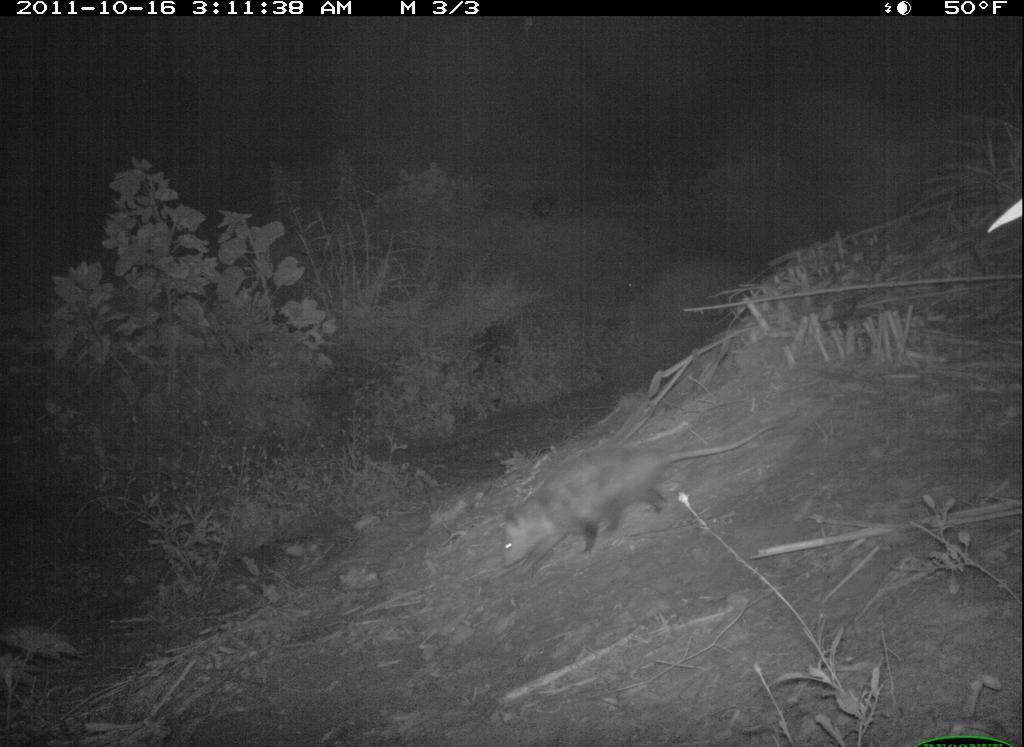opossum: (481, 399, 805, 596)
